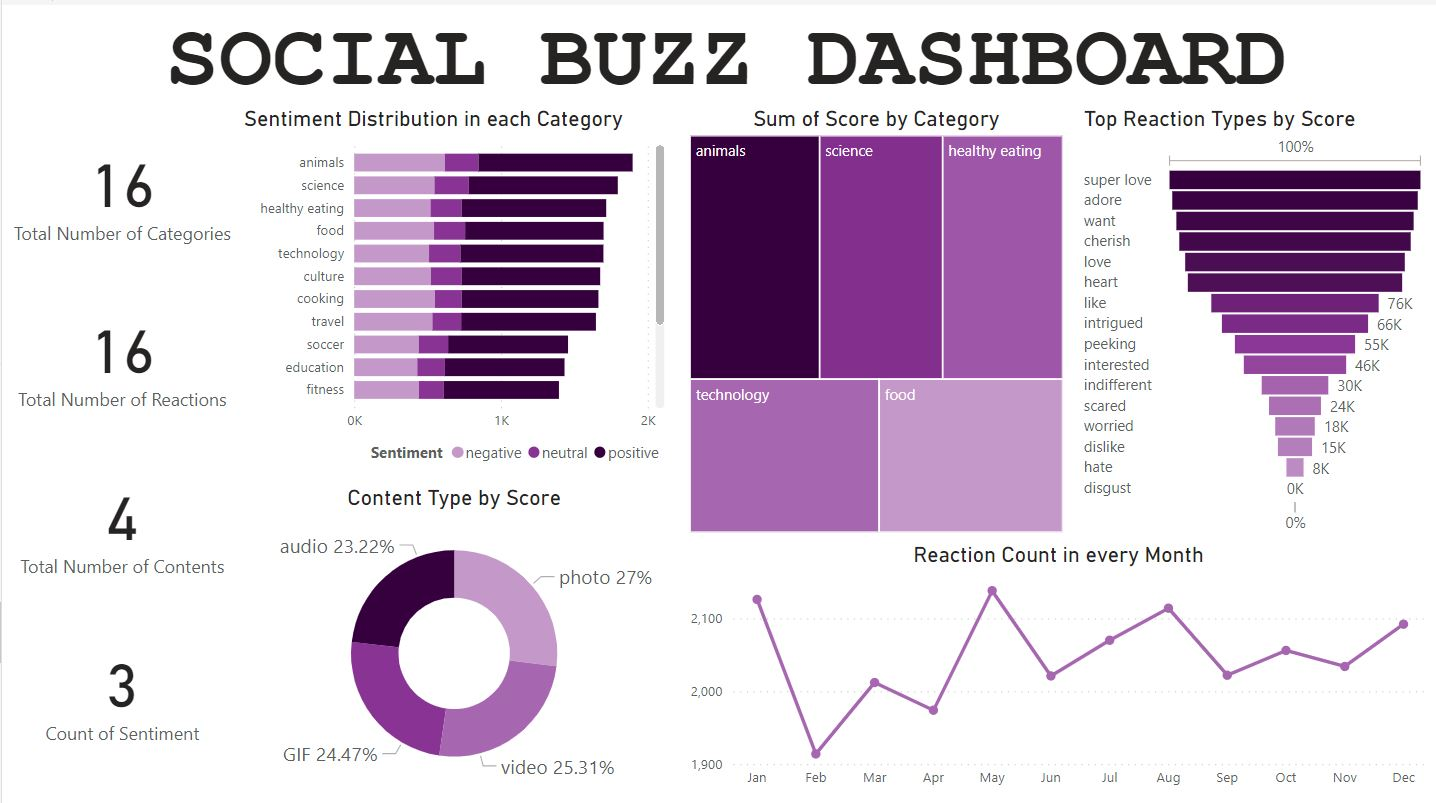

This screenshot's page, from the dashboard's own definition file:
{"tool":"powerbi","page":{"name":"Page 1","canvas":[1280,720],"ordinal":0},"visuals":[{"type":"textbox","box":[138.2,0,1035.4,102.2],"z":0},{"type":"card","fields":{"Values":["Count(Task 3_Final Content Data set.Category)"]},"box":[0,90.7,208.8,149.8],"z":1000},{"type":"card","fields":{"Values":["Count(Task 3_Final Content Data set.Reaction Type)"]},"box":[0,240.5,208.8,149.8],"z":2000},{"type":"card","fields":{"Values":["Count(Task 3_Final Content Data set.Content Type)"]},"box":[0,390.2,208.8,149.8],"z":3000},{"type":"card","fields":{"Values":["Count(Task 3_Final Content Data set.Sentiment)"]},"box":[0,540,208.8,149.8],"z":6000},{"type":"pieChart","title":"Content Type by Score","fields":{"Category":["Task 3_Final Content Data set.Content Type"],"Y":["Sum(Task 3_Final Content Data set.Score)"]},"box":[208.8,430.6,387.4,280.8],"z":7000},{"type":"treemap","fields":{"Values":["Sum(Task 3_Final Content Data set.Score)"],"Group":["Task 3_Final Content Data set.Category"]},"box":[609.1,90.7,344.2,387.4],"z":8000},{"type":"barChart","title":"Sentiment Distribution in each Category","fields":{"Category":["Task 3_Final Content Data set.Category"],"Y":["CountNonNull(Task 3_Final Content Data set.Content ID)"],"Series":["Task 3_Final Content Data set.Sentiment"]},"box":[208.8,90.7,387.4,329.8],"z":9000},{"type":"lineChart","title":"Reaction Count in every Month","fields":{"Category":["Task 3_Final Content Data set.Month_Name"],"Y":["CountNonNull(Task 3_Final Content Data set.Reaction Type)"]},"box":[609.1,482.4,671,229],"z":11000},{"type":"funnel","title":"Top Reaction Types by Score","fields":{"Category":["Task 3_Final Content Data set.Reaction Type"],"Y":["Sum(Task 3_Final Content Data set.Score)"]},"box":[963.4,90.7,316.8,387.4],"z":13001}]}

Visuals, with their boxes in screenshot pixels (x1, y1, x2, y2), scaled from the page's 1280x720 canvas onto the 1436x803 screenshot:
textbox: Rect(155, 0, 1317, 114)
card - Count(Task 3_Final Content Data set.Category): Rect(0, 101, 234, 268)
card - Count(Task 3_Final Content Data set.Reaction Type): Rect(0, 268, 234, 435)
card - Count(Task 3_Final Content Data set.Content Type): Rect(0, 435, 234, 602)
card - Count(Task 3_Final Content Data set.Sentiment): Rect(0, 602, 234, 769)
"Content Type by Score" pieChart: Rect(234, 480, 669, 793)
treemap - Sum(Task 3_Final Content Data set.Score) x Task 3_Final Content Data set.Category: Rect(683, 101, 1069, 533)
"Sentiment Distribution in each Category" barChart: Rect(234, 101, 669, 469)
"Reaction Count in every Month" lineChart: Rect(683, 538, 1435, 793)
"Top Reaction Types by Score" funnel: Rect(1081, 101, 1435, 533)
